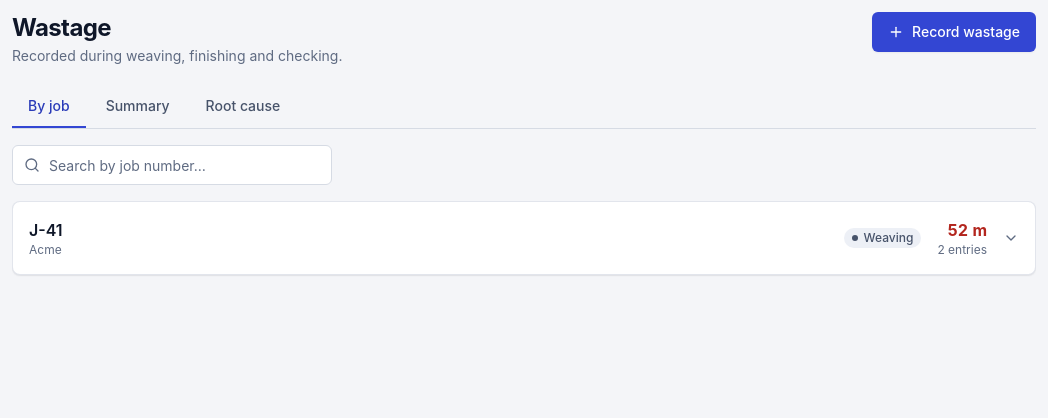
it: a wastage record on the page › says who entered it, and says nothing for a record that never kept it
This screenshot has width=1048, height=418.
What coordinates should you click on to do the following:
click the text "J-41"
I would click on:
 (46, 230)
Its box is top-left (29, 220), bottom-right (63, 240).
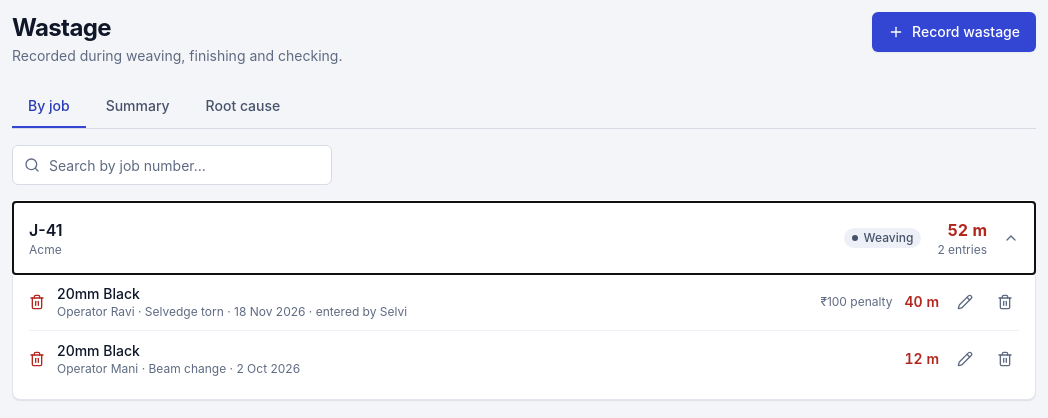
Check: the text "Operator Mani · Beam change" does not show "entered by"
Check: the text "Selvedge torn" is shown, box top-left (145, 304), bottom-right (224, 319)
Check: the text "Operator Ravi · Selvedge torn" shows "entered by Selvi", box top-left (306, 304), bottom-right (407, 319)
